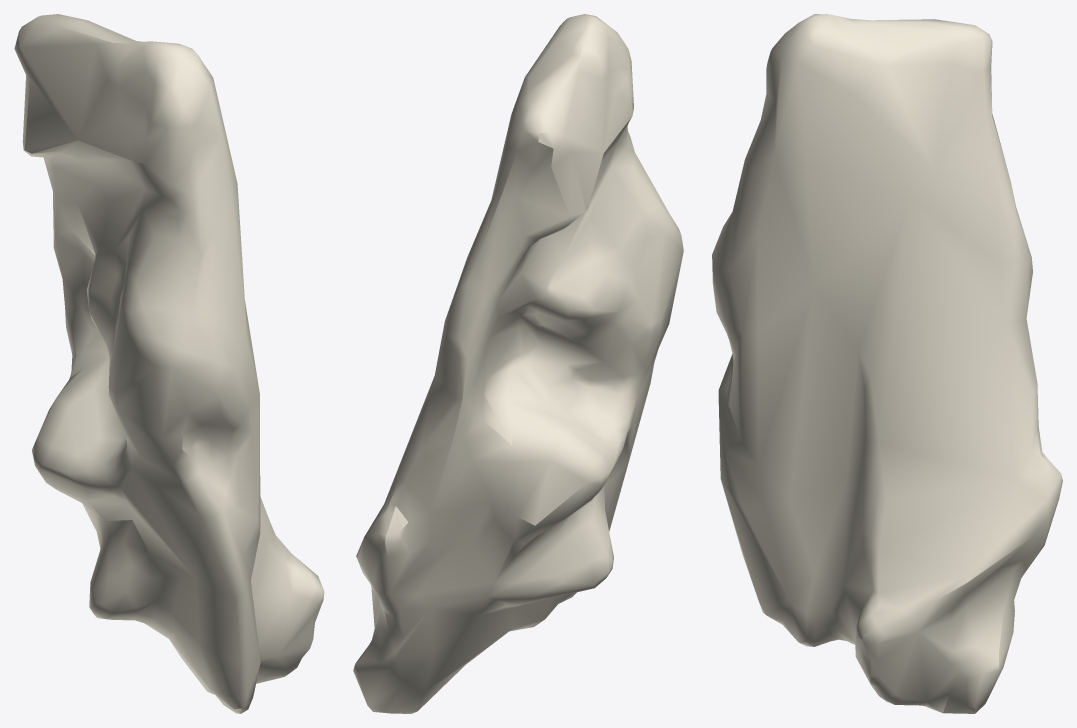
Rendered from fma53646.glb.
The picture shows the model from 3 angles, left to right: view 1: azimuth 30°, elevation 25°; view 2: azimuth 150°, elevation 25°; view 3: azimuth 270°, elevation 25°; orthographic projection. The views are drawn at different scales.
Visible parts, largest first — view 1: FMA53646; view 2: FMA53646; view 3: FMA53646.
Boxes of the visible parts, x1=… form: FMA53646: x1=14, y1=14, x2=324, y2=713; FMA53646: x1=353, y1=14, x2=683, y2=713; FMA53646: x1=712, y1=14, x2=1062, y2=713.
Size of the model in its own units: 0.0104 by 0.0277 by 0.0137.
